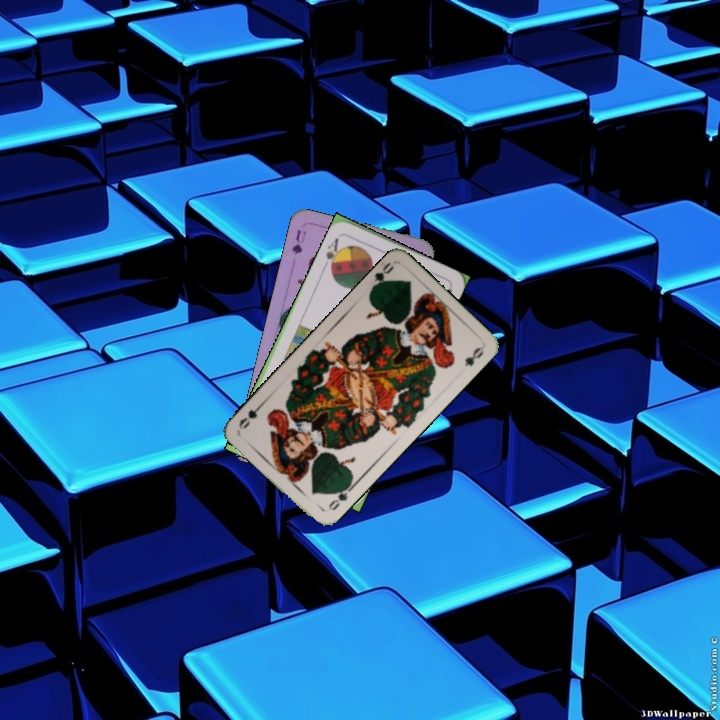GO: (366, 258, 396, 294), (324, 481, 356, 513)
GU: (288, 226, 309, 258)
SA: (320, 234, 344, 272)
